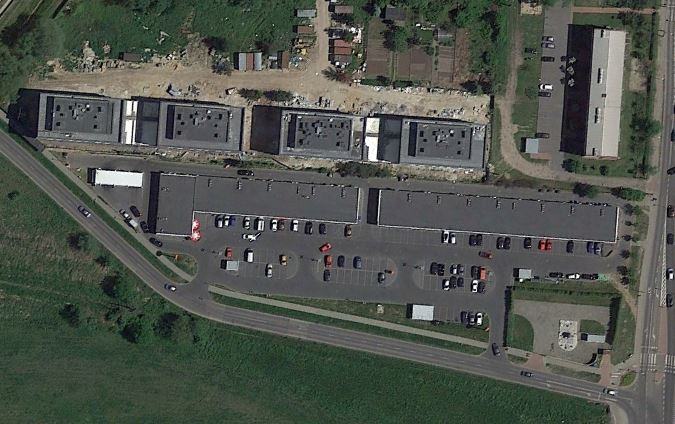block of flats: (272, 104, 490, 172), (29, 89, 246, 157)
garage: (373, 185, 629, 250), (153, 166, 364, 240), (579, 23, 623, 167)
